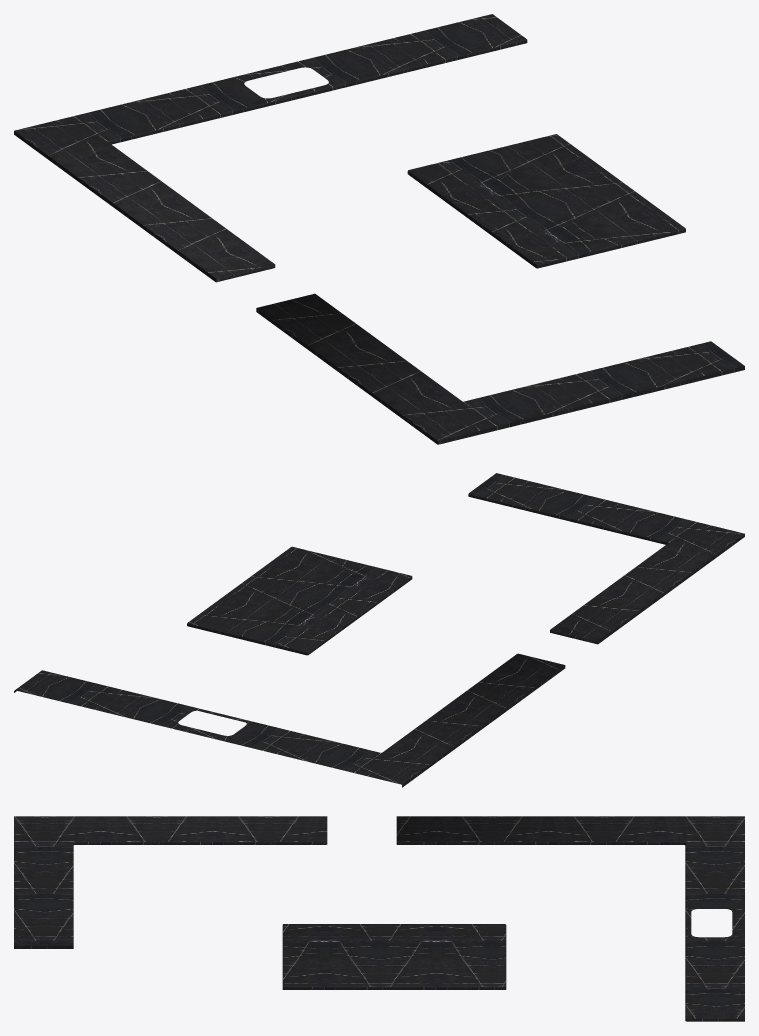
The model's file is 2345_kitchen_Countertops_QuartzEtNoir.gltf.
3 views of the same model, one above another, from view 1: azimuth 30°, elevation 25°; view 2: azimuth 150°, elevation 25°; view 3: azimuth 270°, elevation 25° (orthographic). The views are drawn at different scales.
Visible parts, largest first — view 1: Countertops_Quartz Et Noir; view 2: Countertops_Quartz Et Noir; view 3: Countertops_Quartz Et Noir.
Boxes of the visible parts, bbox=[...] form: Countertops_Quartz Et Noir: bbox=[14, 14, 744, 444]; Countertops_Quartz Et Noir: bbox=[14, 473, 744, 787]; Countertops_Quartz Et Noir: bbox=[14, 816, 744, 1021].
Size of the model in its own units: 6.4 by 0.05 by 9.8.
1 material, 1 textured.
